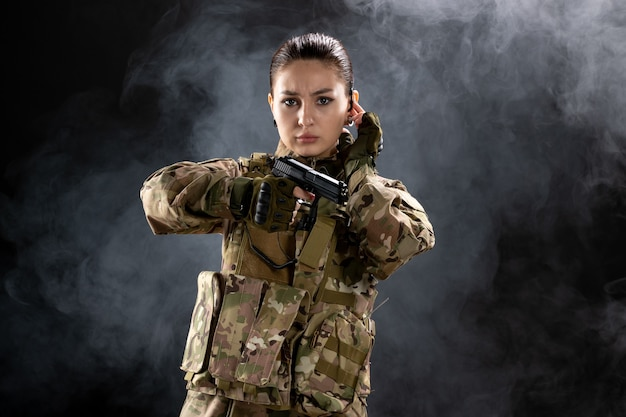gun: (267, 155, 347, 232)
